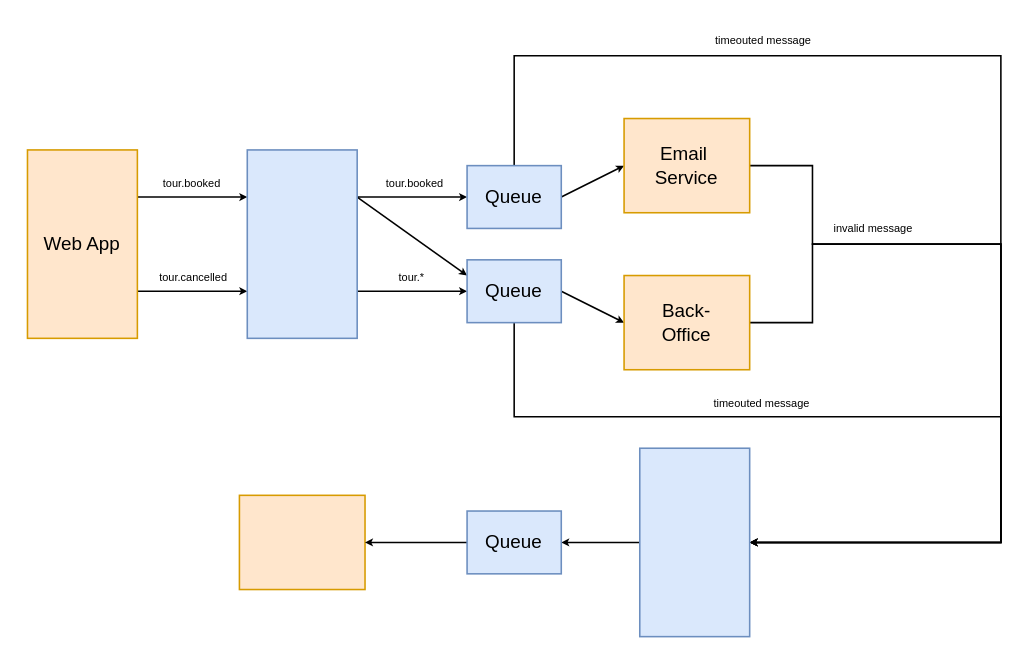
This 1035x664 diagram has some shape labels left out. The centre of each missing label's shape, as x and y in pixels:
"Admin App" goes at (x=301, y=542).
"Dead Letter" goes at (x=694, y=542).
"Tour Exchange" goes at (x=301, y=243).
